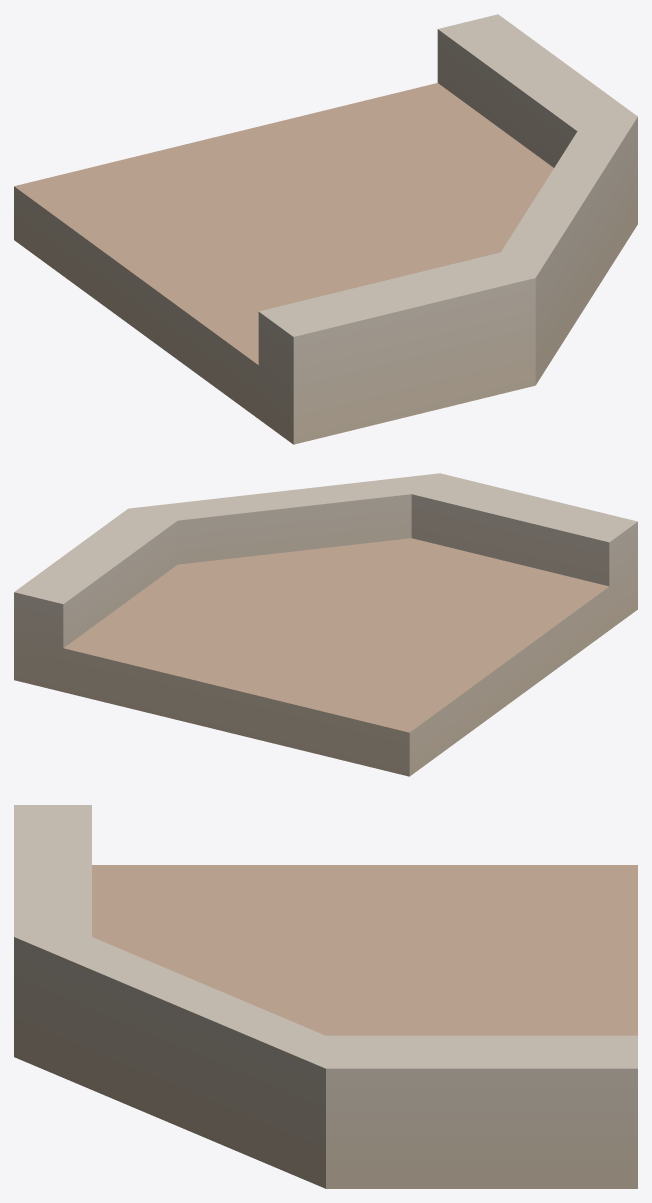
File: roof-flat-border-corner-slanted.glb
3 renders of one model, top to bottom at view 1: azimuth 30°, elevation 25°; view 2: azimuth 150°, elevation 25°; view 3: azimuth 270°, elevation 25°, orthographic. The views are drawn at different scales.
Visible parts, largest first — view 1: roof-flat-border-corner-slanted; view 2: roof-flat-border-corner-slanted; view 3: roof-flat-border-corner-slanted.
Part boxes in pixels (<box>): roof-flat-border-corner-slanted: <box>14,14,637,444</box>; roof-flat-border-corner-slanted: <box>14,473,637,776</box>; roof-flat-border-corner-slanted: <box>14,805,637,1188</box>.
Bounding box in the file's own units: 1 × 0.2125 × 1.
